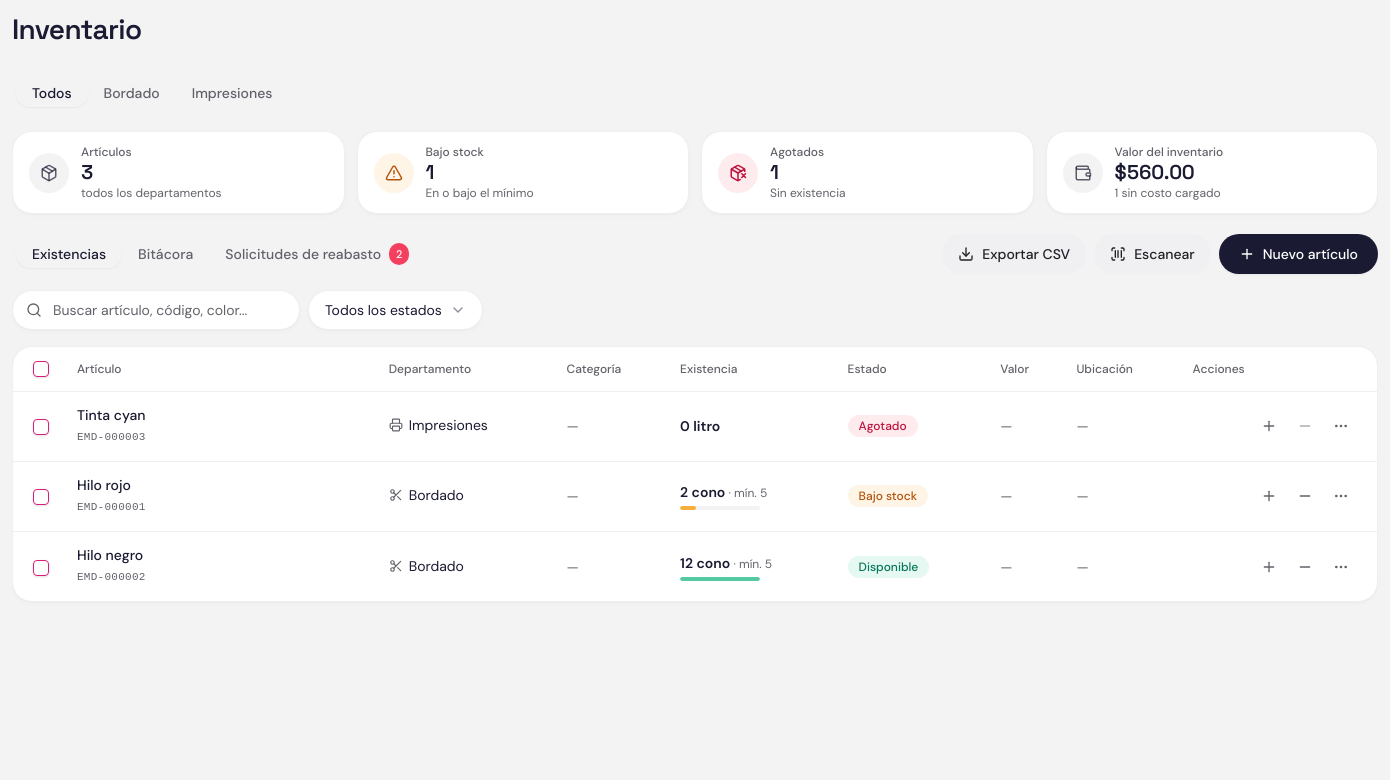
Scenario: InventarioPage › “seleccionar todos” marca lo que está a la vista
The image size is (1390, 780).
Click the checkbox named "Seleccionar todos" at (41, 369), box [33,361,49,377]
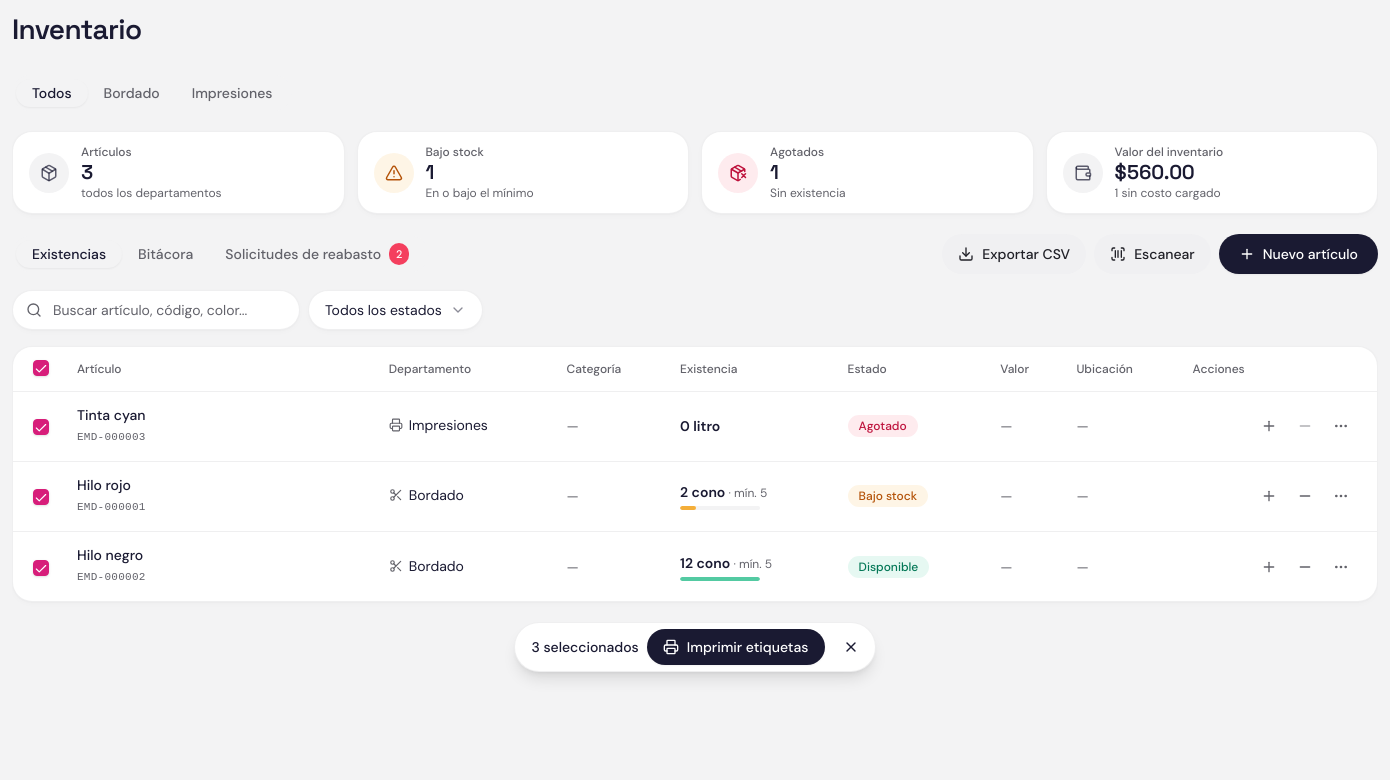
expect the text "3 seleccionados" is shown: met, box [532,637,639,657]
